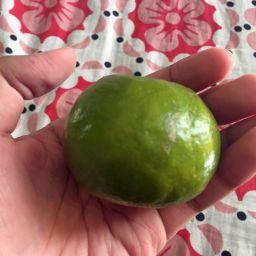Unripe: (69, 77, 221, 206)
